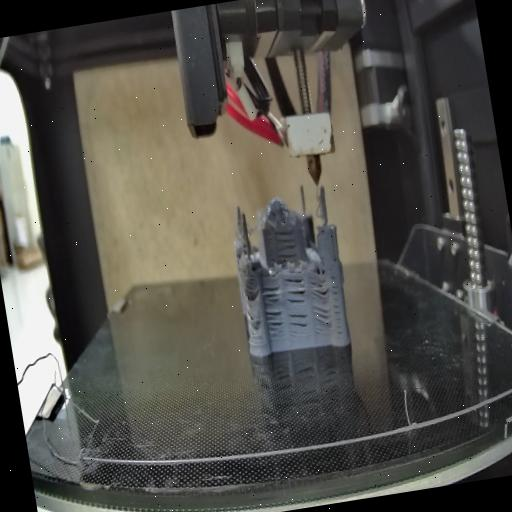cracks: (328, 272, 346, 336), (272, 224, 299, 262), (280, 272, 306, 306), (309, 304, 333, 334), (286, 308, 310, 338), (306, 274, 330, 302), (264, 309, 286, 338), (260, 279, 283, 305), (240, 279, 257, 301), (246, 308, 256, 330)
